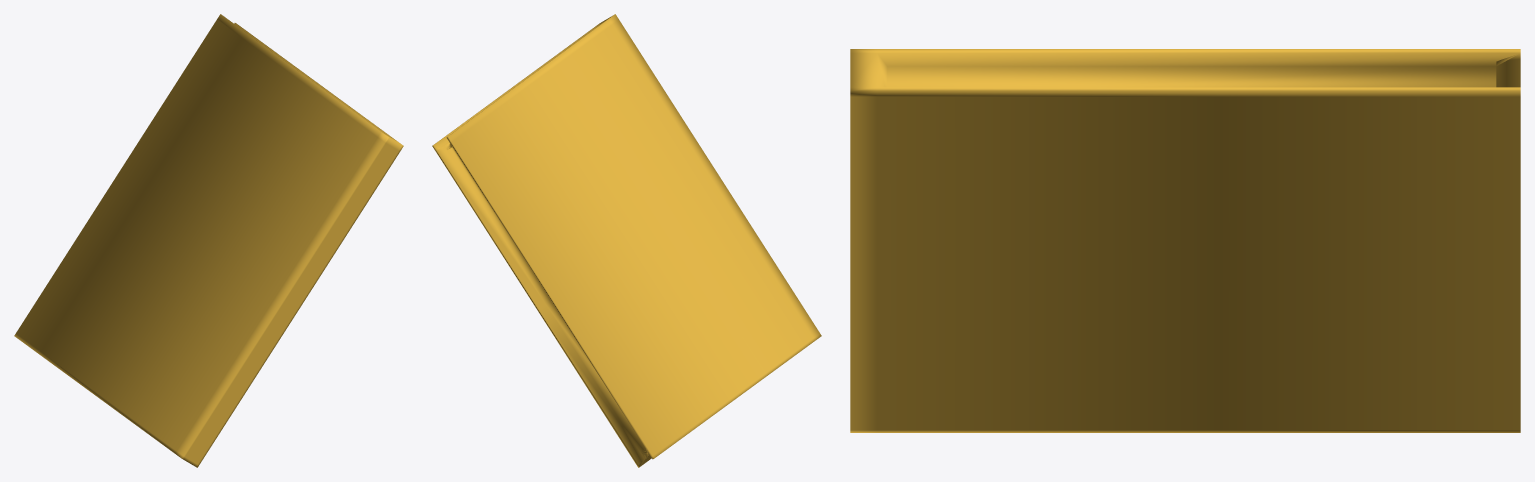
File: K-Book_7.fbx
The picture shows the model from 3 angles, left to right: view 1: azimuth 30°, elevation 25°; view 2: azimuth 150°, elevation 25°; view 3: azimuth 270°, elevation 25°; orthographic projection. The views are drawn at different scales.
Visible parts, largest first — view 1: Book; view 2: Book; view 3: Book.
Part boxes in pixels (box(x1,y1,x2,y2)): Book: box(14, 14, 403, 467); Book: box(432, 14, 821, 467); Book: box(850, 49, 1520, 432).
Bounding box in the file's own units: 18.76 × 22.99 × 24.5.
